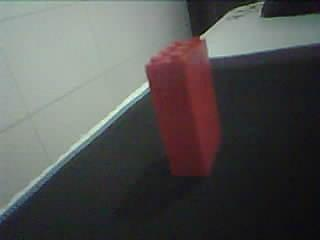lego: (145, 33, 223, 178)
